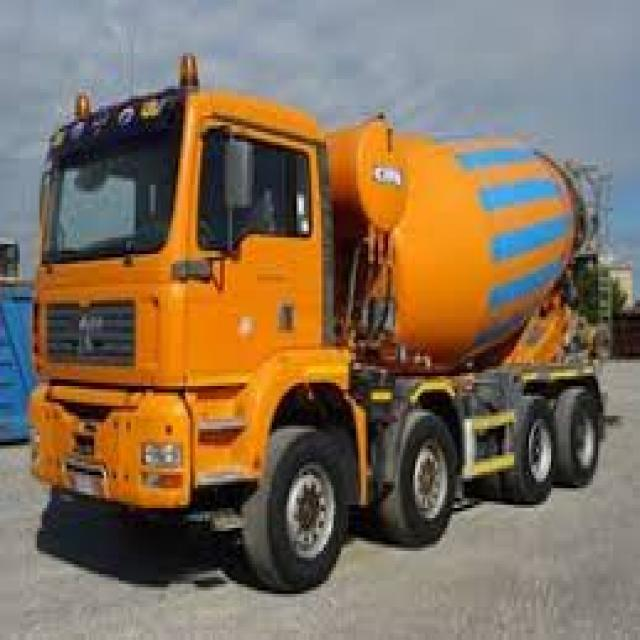Mixer Truck: (26, 45, 619, 598)
